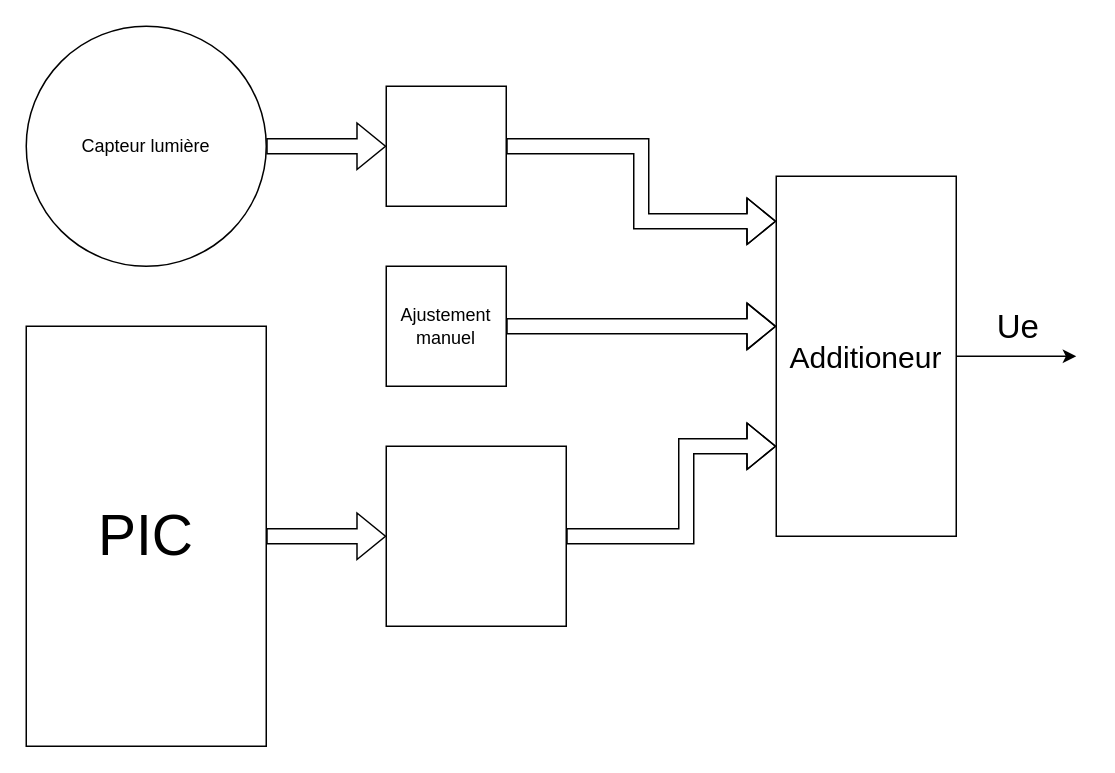
Some shapes in this 1115 by 773 pixel diagram are drawn without their labels. The box of each missing label's shape, as (x1, y1, x2, y2) in pixels:
Conditionneur: (385, 85, 506, 206)
Filtre Passe-Bas: (385, 445, 566, 626)
